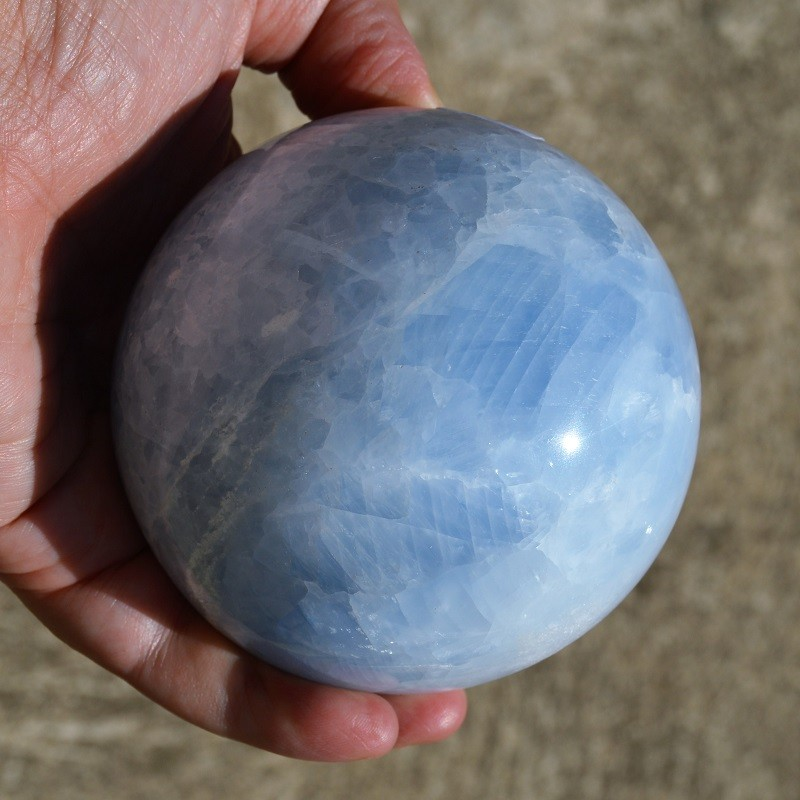blue ball: (114, 106, 702, 697)
